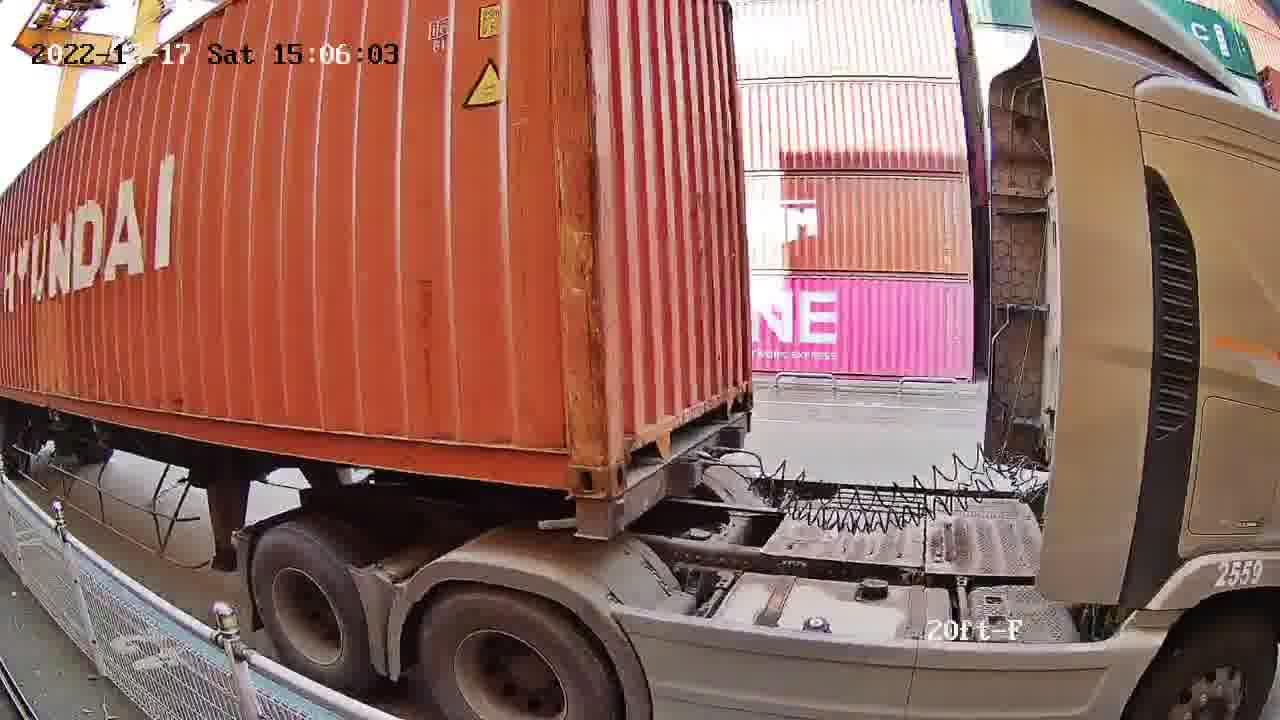Chassis: (612, 413, 748, 540)
Cone: (574, 501, 610, 538)
Hole_L: (610, 403, 654, 500)
Hole_R: (536, 425, 610, 501), (726, 369, 756, 419)
Tire: (419, 591, 616, 718), (250, 531, 367, 690)
